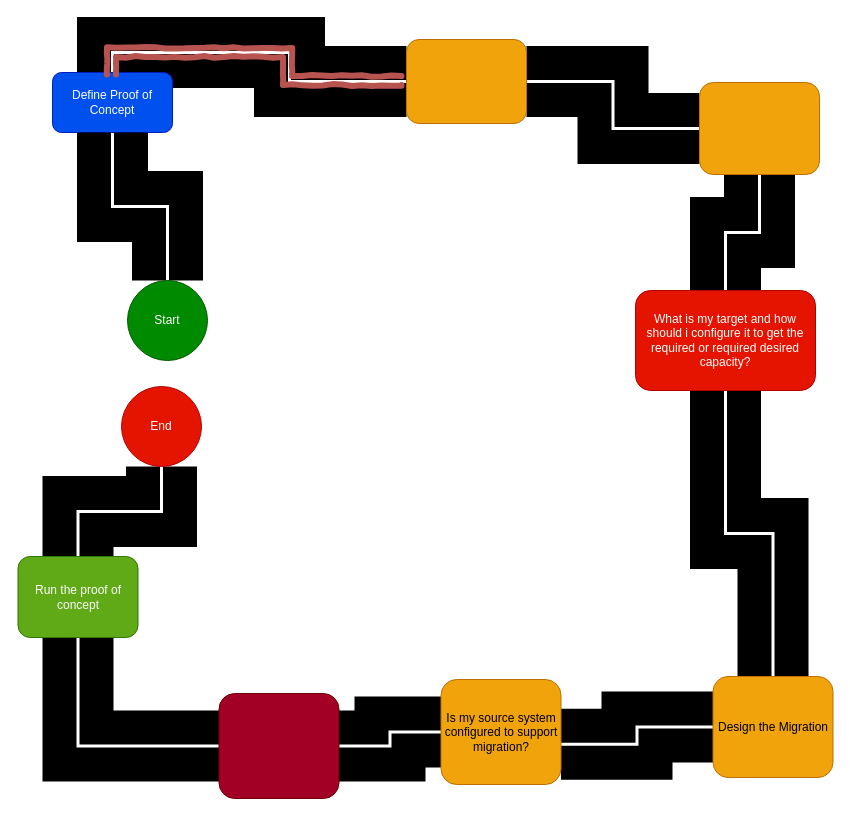
Some shapes in this 850 by 816 pixel diagram are drawn without their labels. The shapes that lost their labels are listed below. From the top down, each one's centre as x and y in pixels, then its label:
At [466,81]: "Which Object Do I need to Migrate?".
At [759,128]: "Are my Datatypes compatible?".
At [278,745]: "Prototype Migration Configuration".
